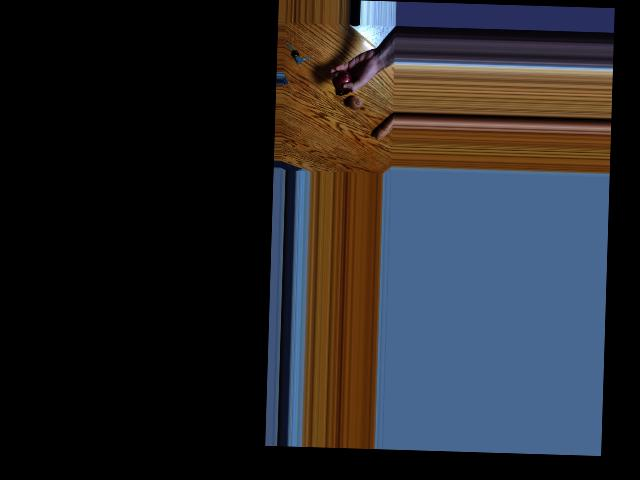onion: (332, 69, 351, 91)
